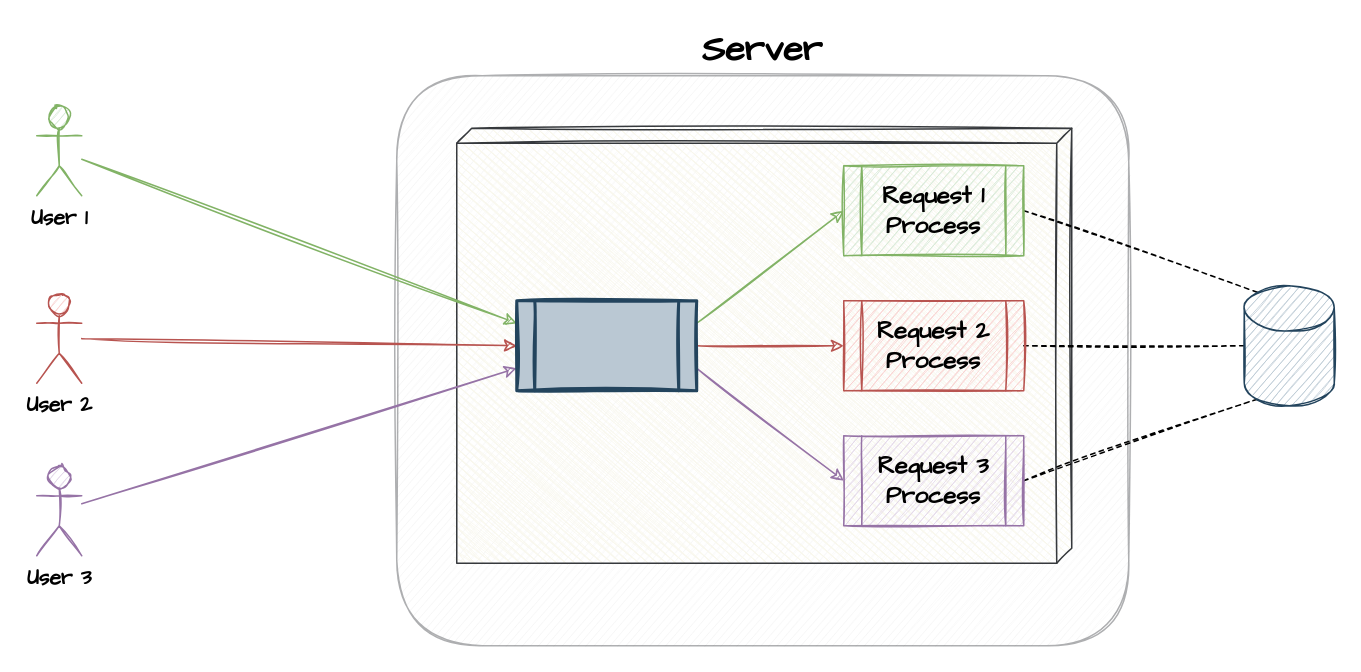
This 1361x672 diagram has some shape labels left out. The box of each missing label's shape, as (x1, y1, x2, y2) in pixels:
DB: (1243, 284, 1334, 406)
Main Process: (514, 298, 698, 392)
Web Application (Multi-process): (455, 127, 1072, 563)
